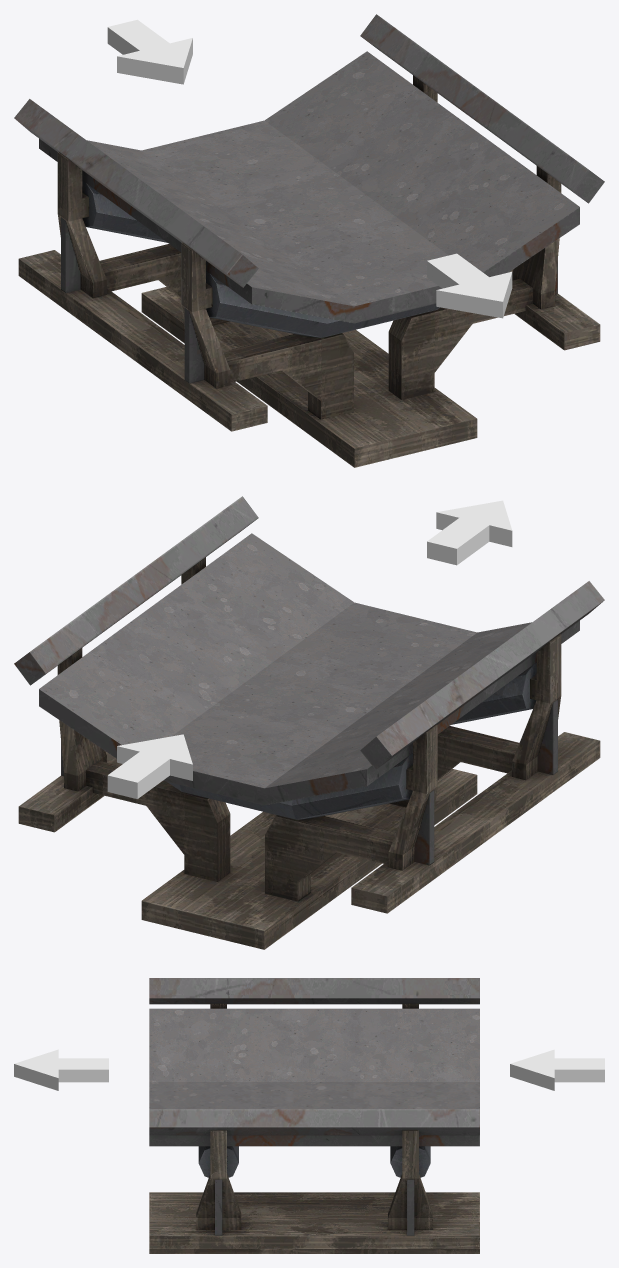
File: ConveyorStraight.glb
3 renders of one model, top to bottom at view 1: azimuth 30°, elevation 25°; view 2: azimuth 150°, elevation 25°; view 3: azimuth 270°, elevation 25°, orthographic. The views are drawn at different scales.
Parts seen in each view (by area): view 1: ConveyorStraight, ghostarrow, ghostarrow (1); view 2: ConveyorStraight, ghostarrow, ghostarrow (1); view 3: ConveyorStraight, ghostarrow, ghostarrow (1).
Part boxes in pixels (x1,y1,x2,y2): ConveyorStraight: (14,14,604,467); ghostarrow: (427,253,512,318); ghostarrow (1): (107,19,192,84); ConveyorStraight: (14,496,604,949); ghostarrow: (427,500,512,565); ghostarrow (1): (107,734,192,798); ConveyorStraight: (149,978,479,1253); ghostarrow: (14,1049,108,1090); ghostarrow (1): (510,1049,604,1090).
Bounding box in the file's own units: 1.02 × 0.6235 × 1.79.
Materials: 3 (2 with a texture image).
